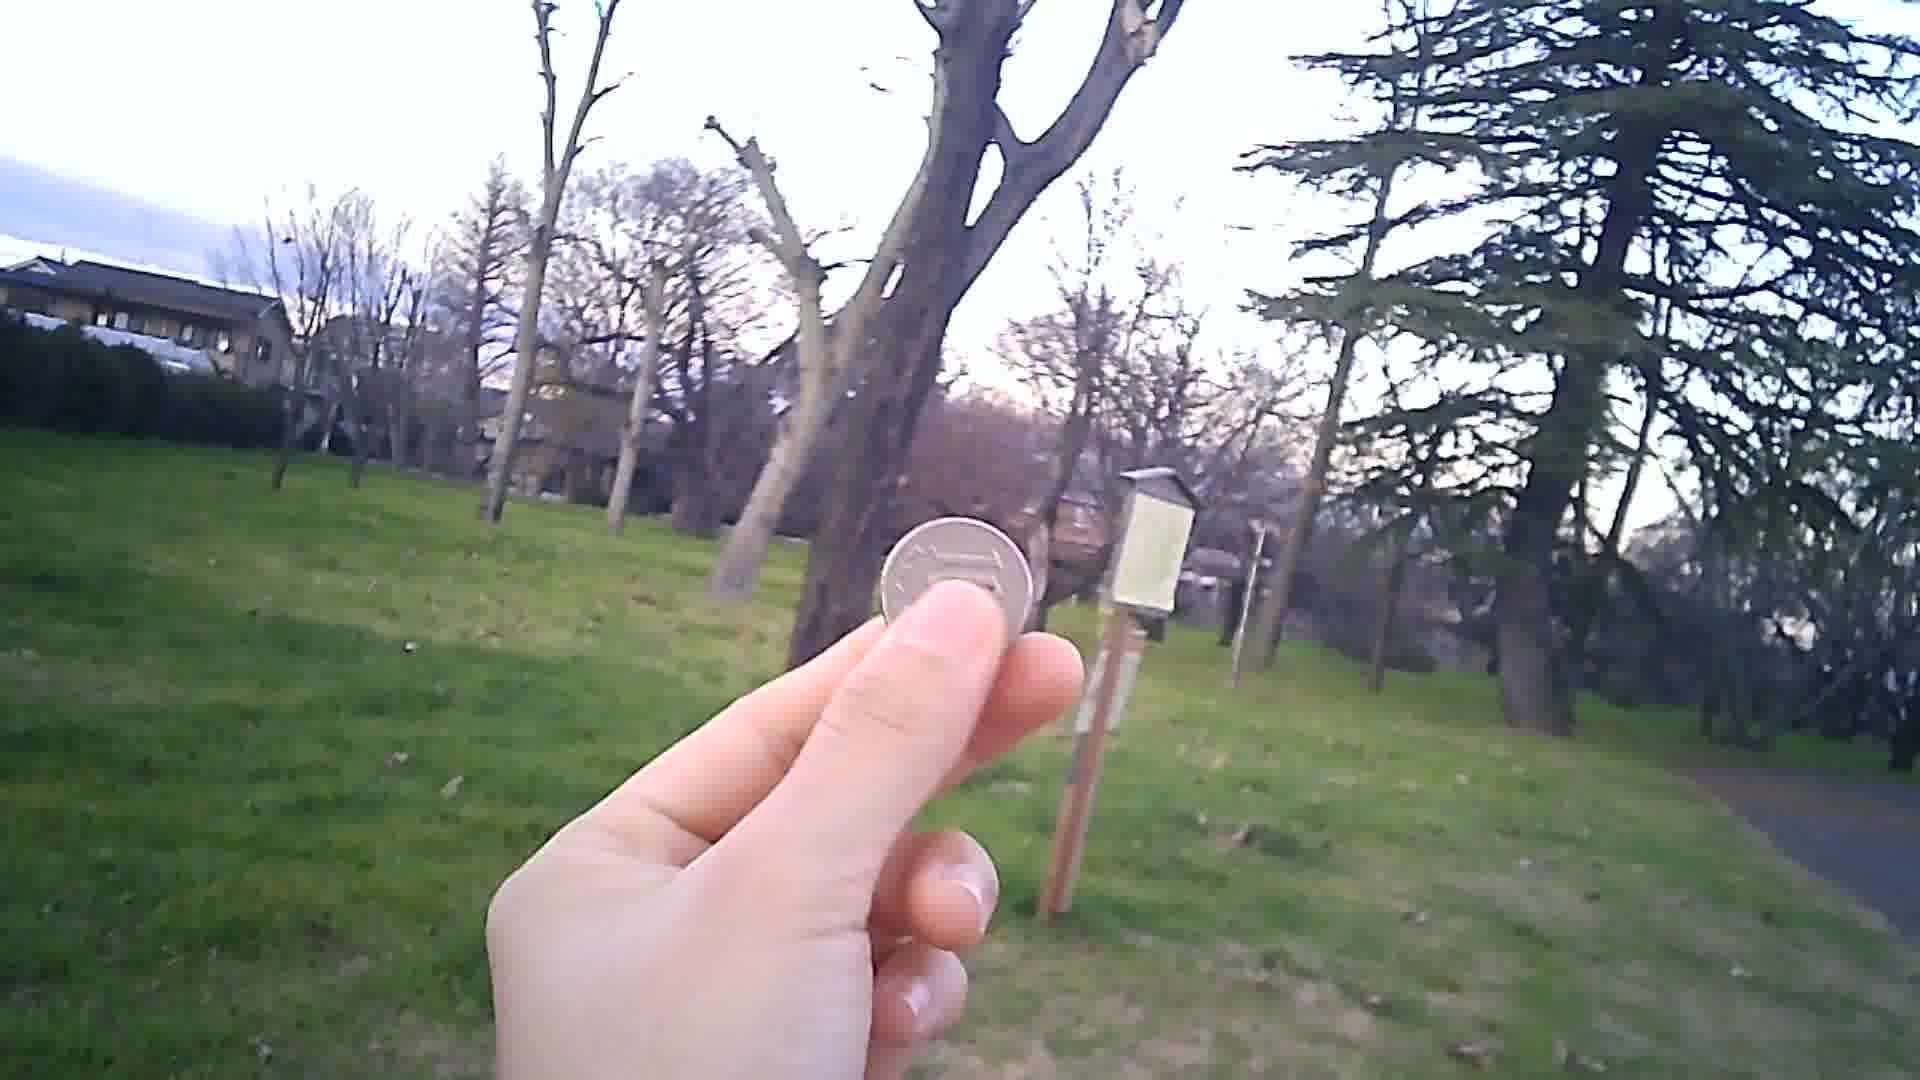100 Yen: (884, 508, 1038, 666)
